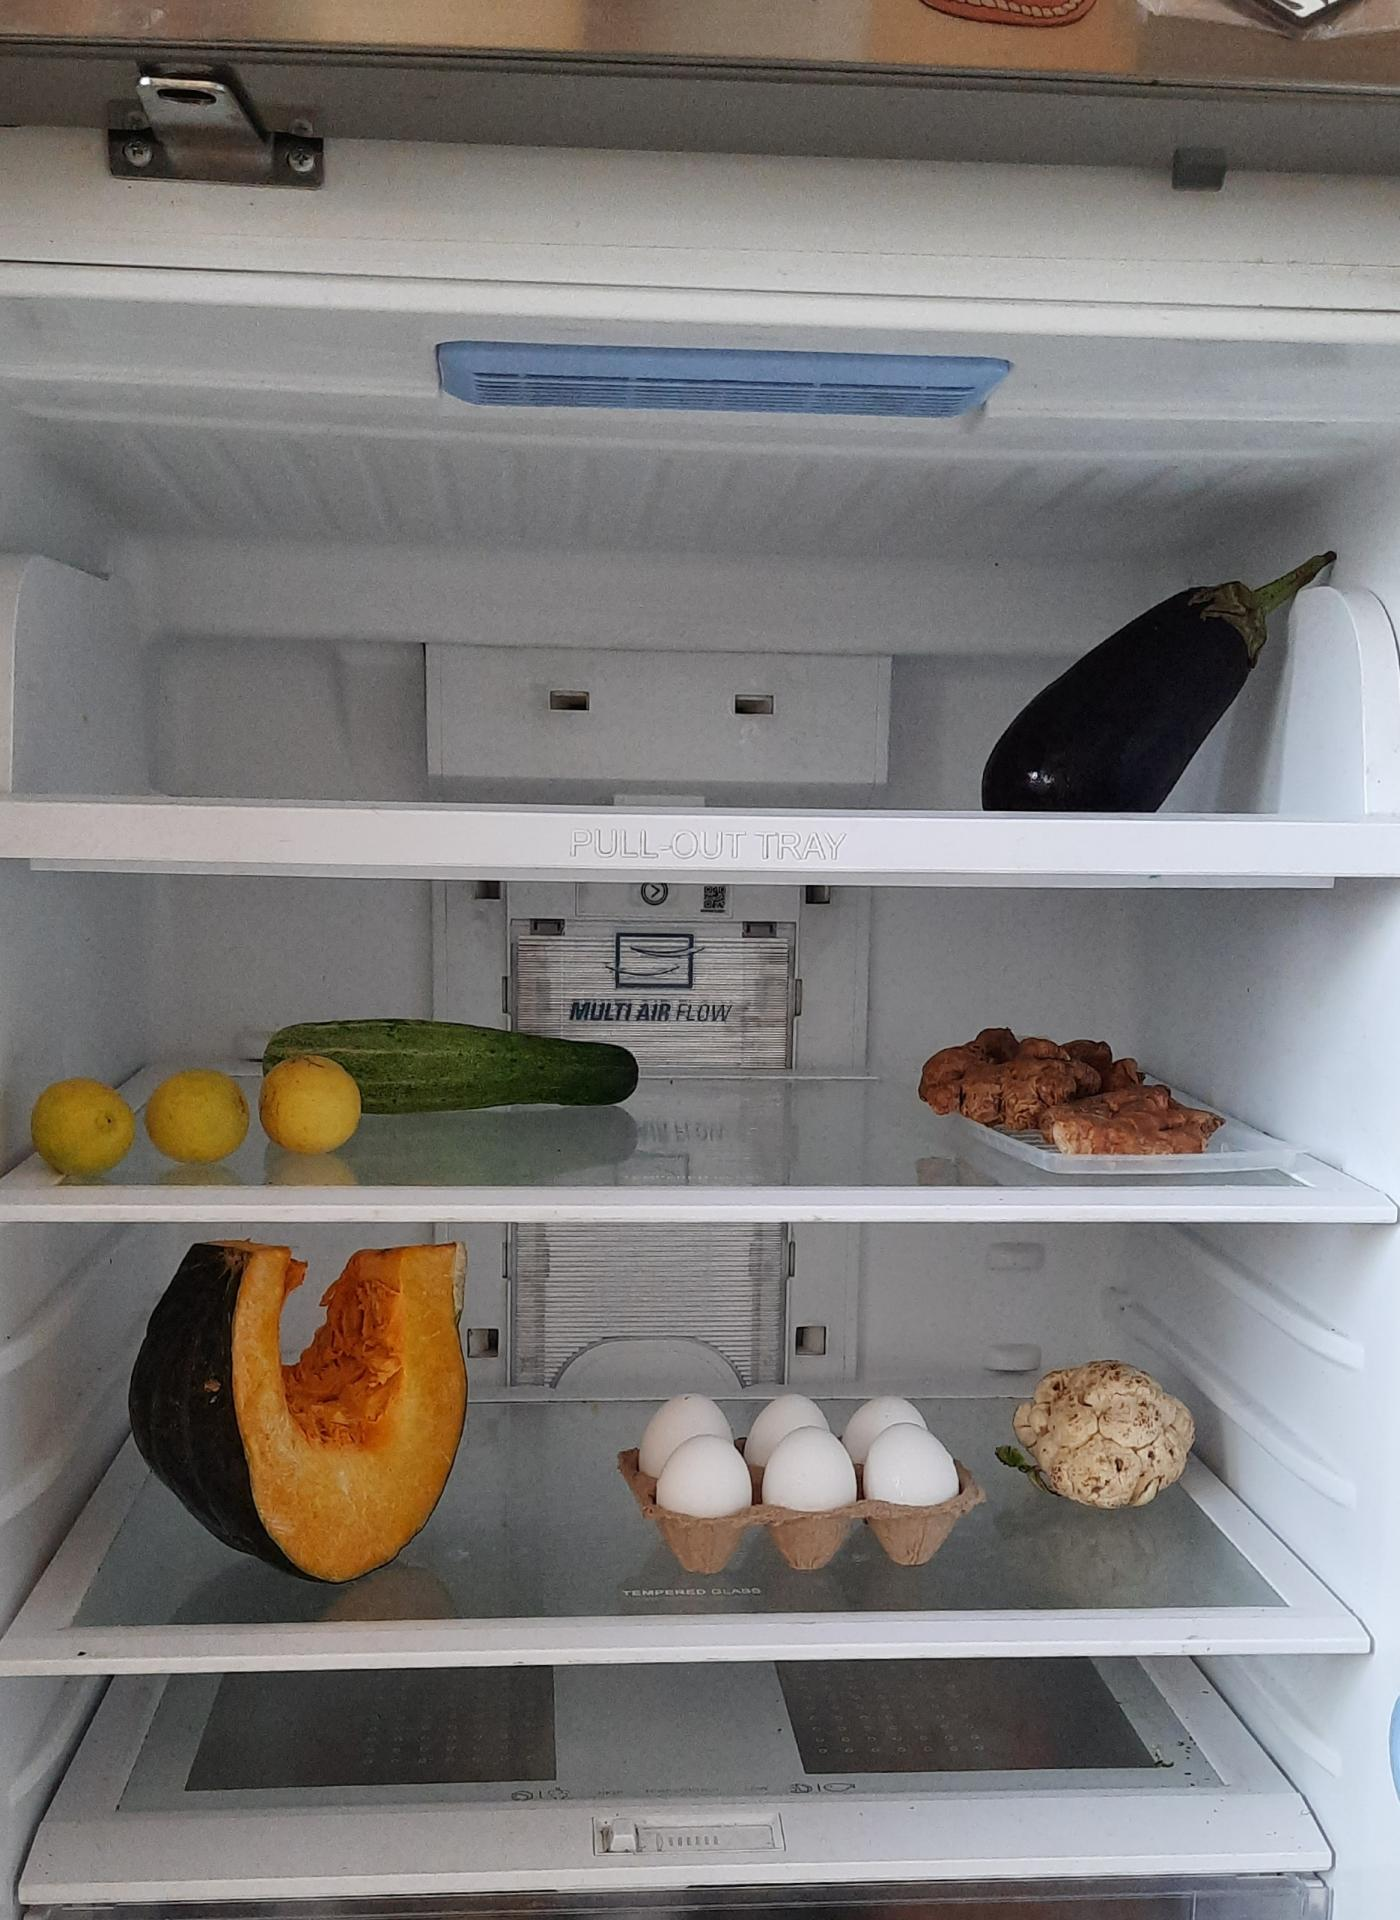brinjal: (968, 523, 1319, 832)
cauliflower: (1017, 1362, 1202, 1515)
cucumber: (264, 1015, 650, 1112)
egg: (628, 1379, 960, 1553)
ginger: (914, 1033, 1227, 1157)
lemon: (27, 1049, 377, 1184)
pumpkin: (134, 1236, 476, 1576)
